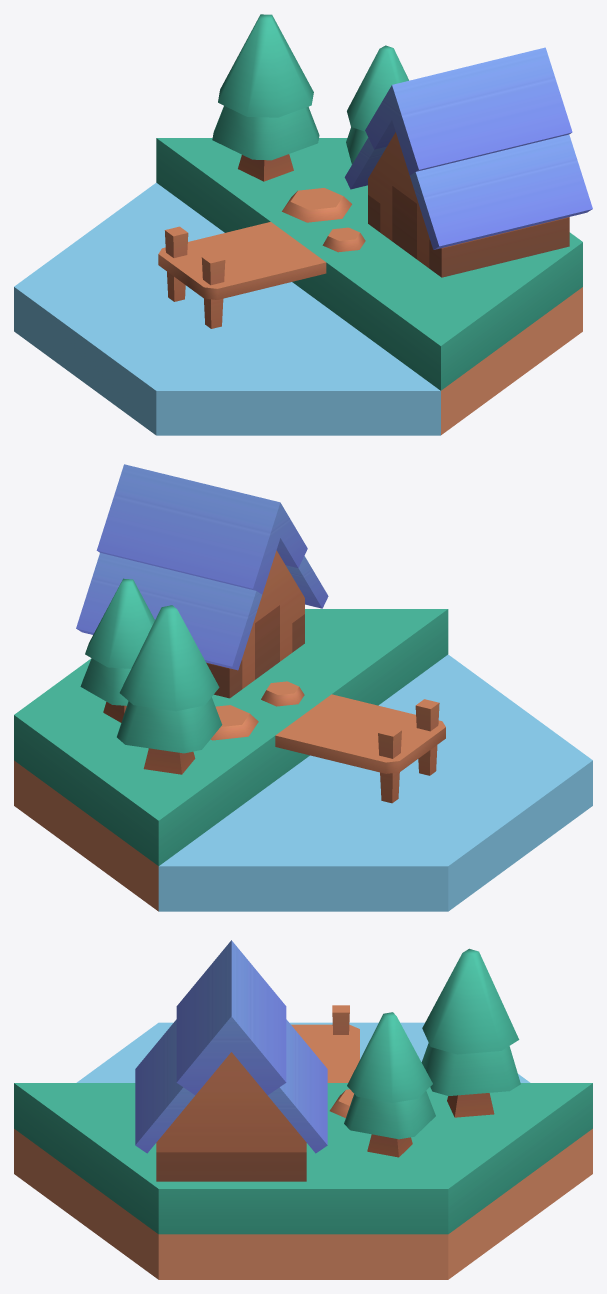
File: kenney-hexagon-building-dock.glb
The picture shows the model from 3 angles, top to bottom: view 1: azimuth 30°, elevation 25°; view 2: azimuth 150°, elevation 25°; view 3: azimuth 270°, elevation 25°; orthographic projection.
Visible parts, largest first — view 1: building_dock; view 2: building_dock; view 3: building_dock.
Boxes of the visible parts, x1,y1,x2,y2 form: building_dock: [14, 14, 592, 435]; building_dock: [14, 464, 592, 911]; building_dock: [14, 940, 592, 1279].
Size of the model in its own units: 1 by 0.5781 by 1.15.
Materials: 1 (1 with a texture image).
